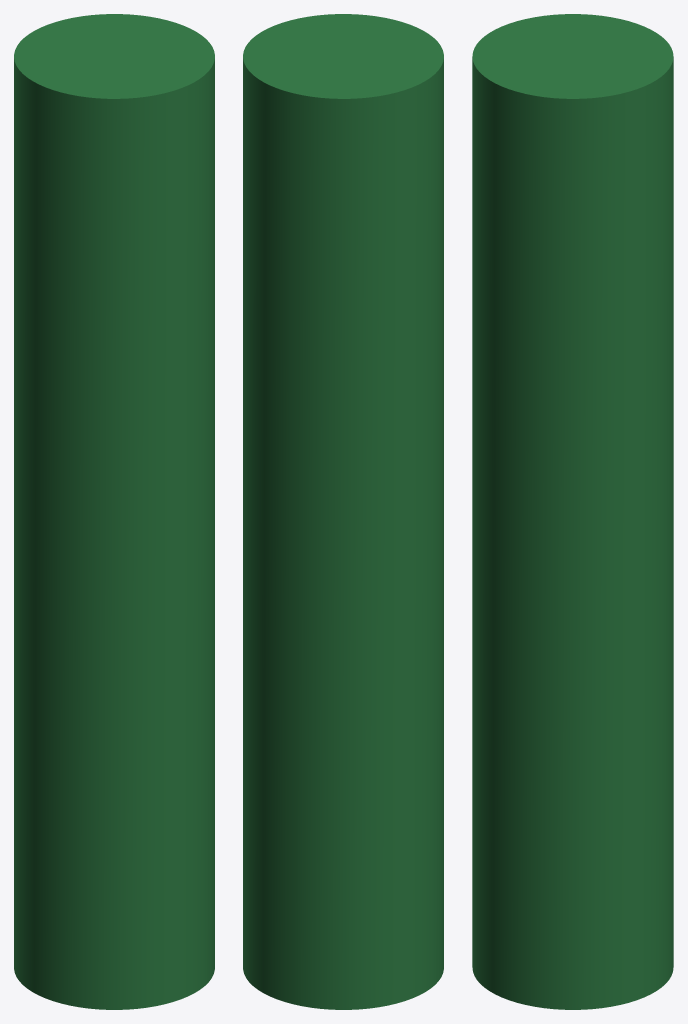
The picture shows the model from 3 angles, left to right: view 1: azimuth 30°, elevation 25°; view 2: azimuth 150°, elevation 25°; view 3: azimuth 270°, elevation 25°; orthographic projection.
Parts seen in each view (by area): view 1: _t3d0; view 2: _t3d0; view 3: _t3d0.
Part boxes in pixels (x1=…): _t3d0: x1=14, y1=14, x2=214, y2=1009; _t3d0: x1=243, y1=14, x2=443, y2=1009; _t3d0: x1=472, y1=14, x2=673, y2=1009.
Size of the model in its own units: 0.2 by 1 by 0.2.
